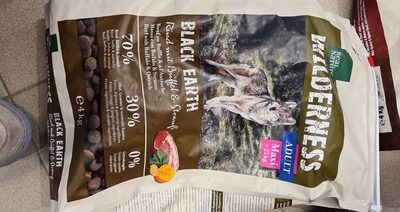Real Nature Wilderness: (20, 11, 380, 201)
